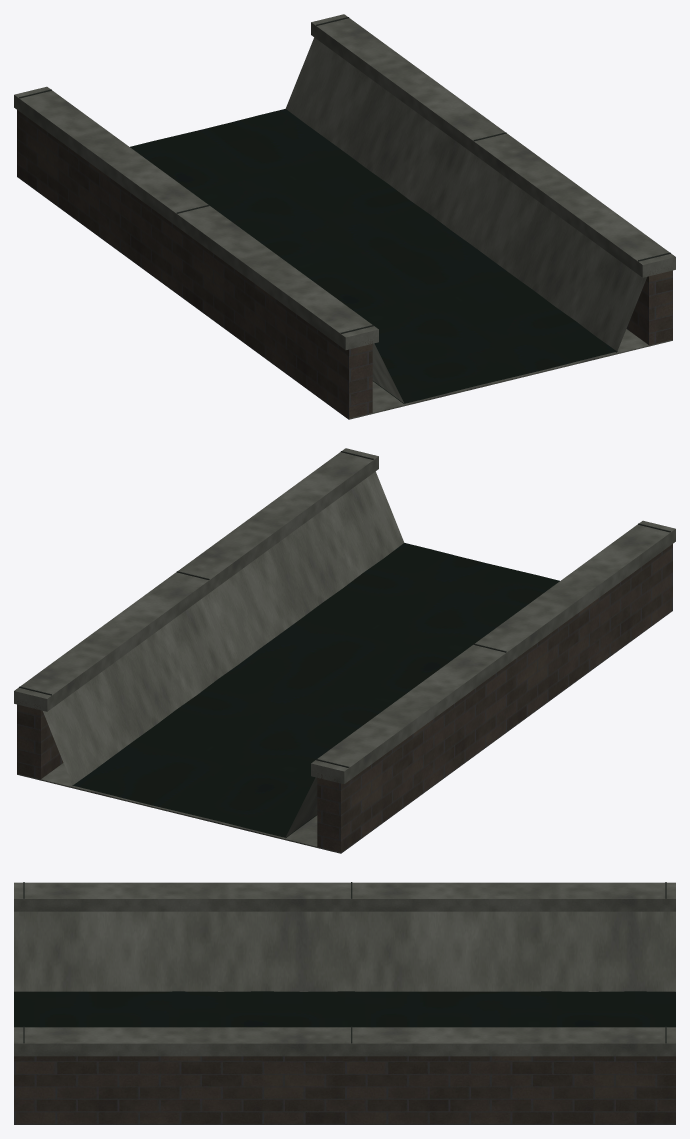
File: brick-drain-channel-4m.glb
3 renders of one model, top to bottom at view 1: azimuth 30°, elevation 25°; view 2: azimuth 150°, elevation 25°; view 3: azimuth 270°, elevation 25°, orthographic.
Visible parts, largest first — view 1: Slow stormwater ripple, Sloping concrete invert.001, Low engineering brick bank, Bank coping.001, Bank coping, Low engineering brick bank.001, Channel concrete bed, Sloping concrete invert; view 2: Slow stormwater ripple, Sloping concrete invert.001, Low engineering brick bank, Bank coping.001, Bank coping, Low engineering brick bank.001, Channel concrete bed, Sloping concrete invert; view 3: Sloping concrete invert, Low engineering brick bank.001, Slow stormwater ripple, Bank coping.001, Bank coping.
Boxes of the visible parts, x1,y1,x2,y2 form: Slow stormwater ripple: [130, 109, 617, 403]; Sloping concrete invert.001: [285, 37, 646, 352]; Low engineering brick bank: [17, 110, 372, 419]; Bank coping.001: [311, 14, 675, 277]; Bank coping: [14, 86, 378, 349]; Low engineering brick bank.001: [626, 268, 672, 345]; Channel concrete bed: [349, 329, 671, 419]; Sloping concrete invert: [372, 343, 404, 404]; Slow stormwater ripple: [72, 543, 559, 837]; Sloping concrete invert.001: [43, 471, 404, 786]; Low engineering brick bank: [317, 544, 672, 853]; Bank coping.001: [14, 448, 378, 711]; Bank coping: [311, 520, 675, 783]; Low engineering brick bank.001: [17, 701, 63, 780]; Channel concrete bed: [18, 763, 340, 853]; Sloping concrete invert: [285, 777, 317, 838]; Sloping concrete invert: [14, 911, 675, 991]; Low engineering brick bank.001: [14, 1056, 675, 1124]; Slow stormwater ripple: [14, 991, 675, 1027]; Bank coping.001: [14, 1027, 675, 1056]; Bank coping: [14, 882, 675, 911].
Size of the model in its own units: 2.3 by 0.5575 by 4.
Materials: 4 (3 with a texture image).
